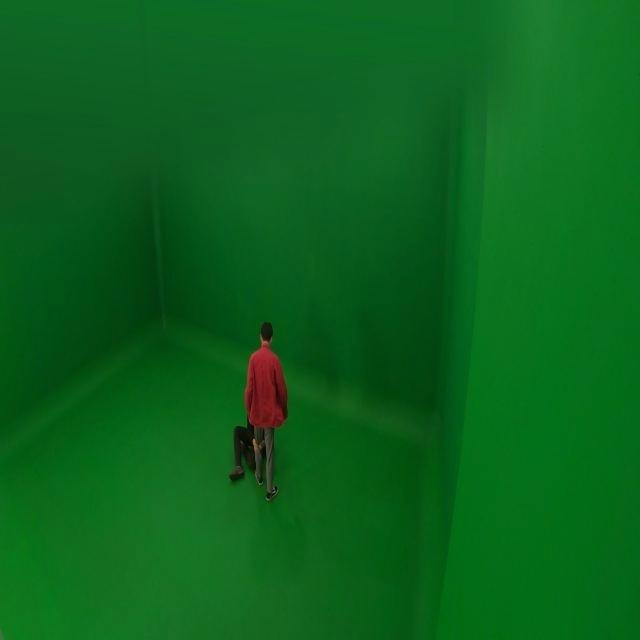fight: (230, 319, 290, 498)
